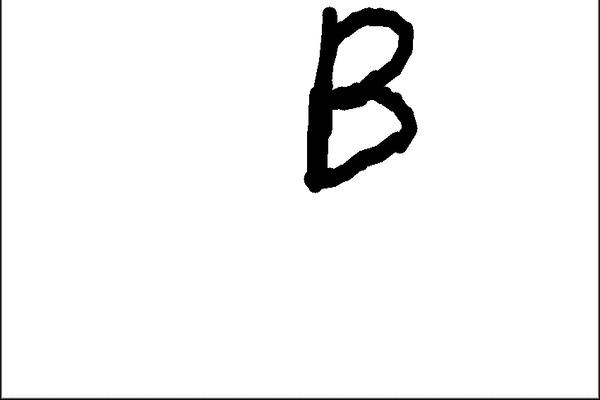B: (299, 2, 427, 195)
